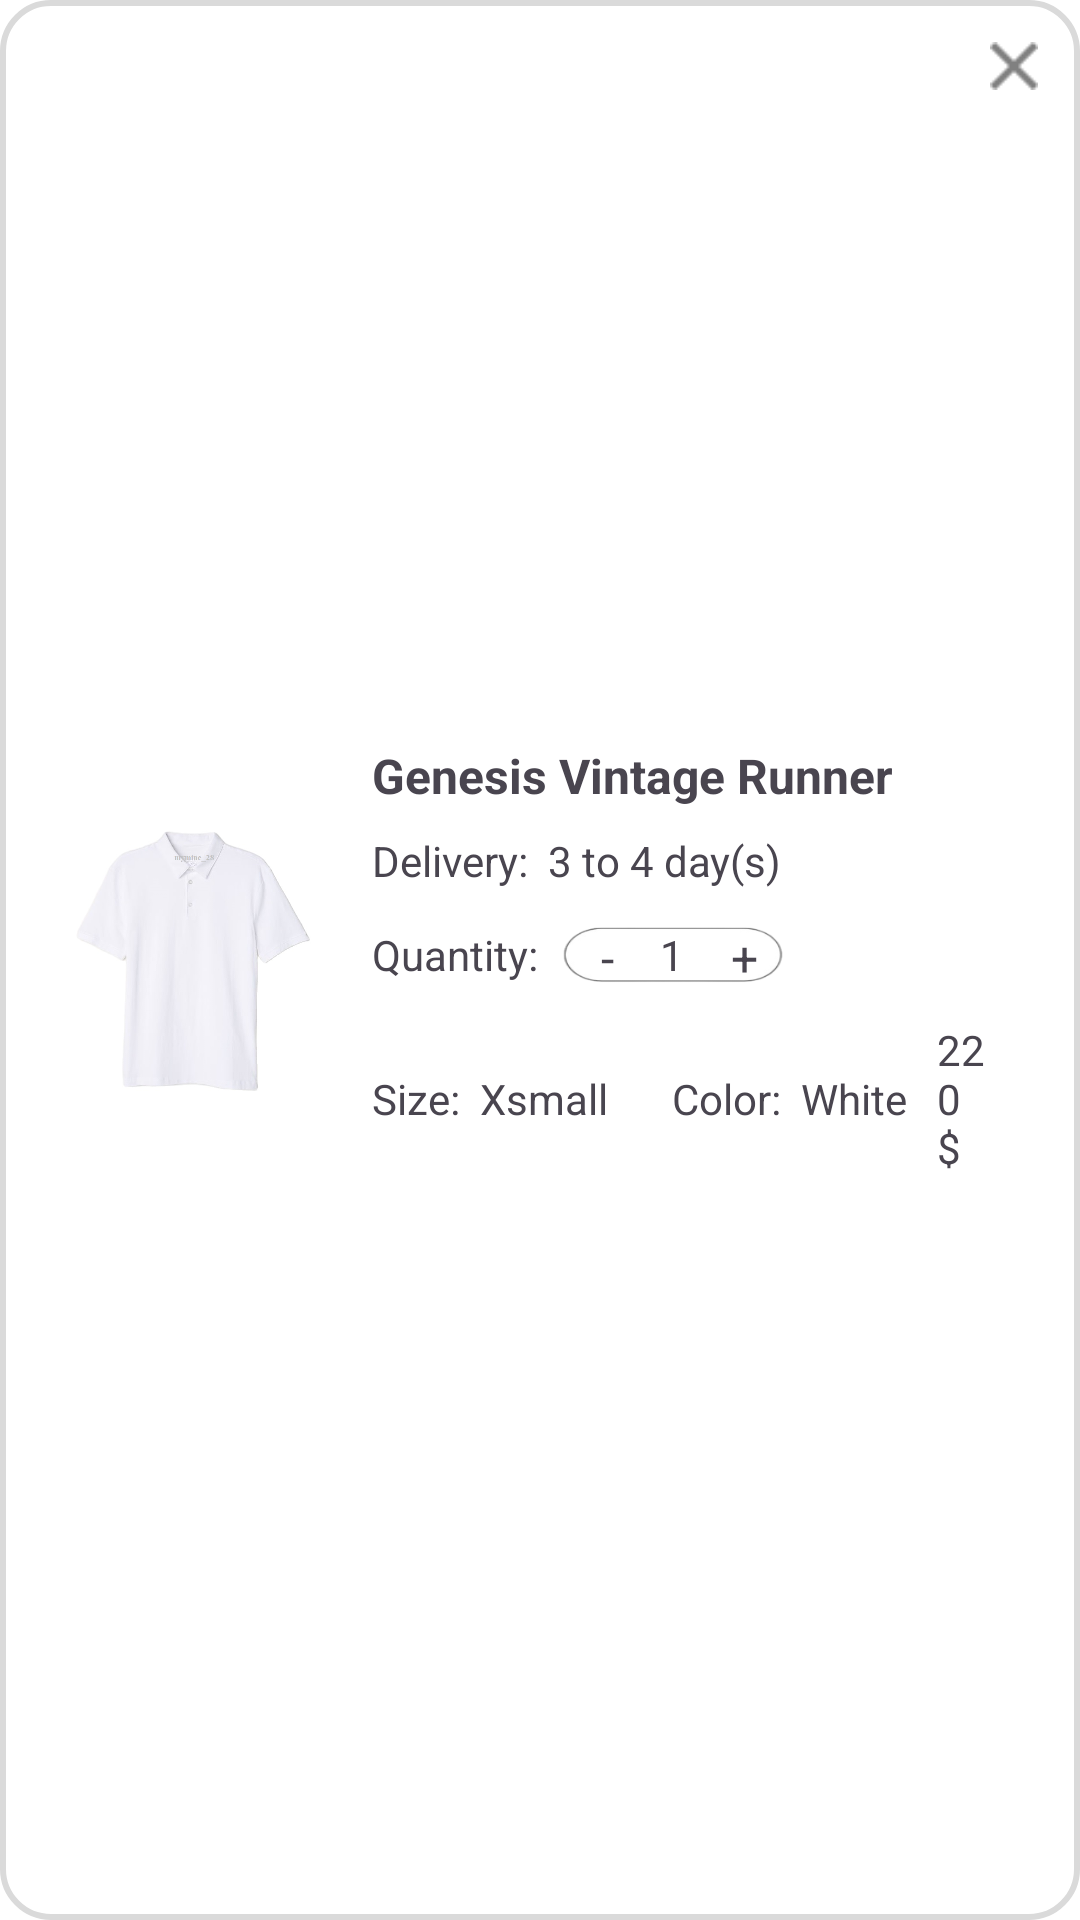

Point at icon controls on the screen. Image size 1080 x 1920, points as (x,y).
close: (1014,66)
